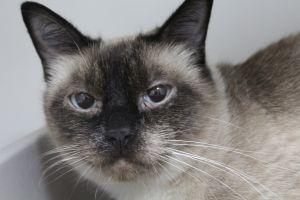siamese: (25, 1, 235, 199)
